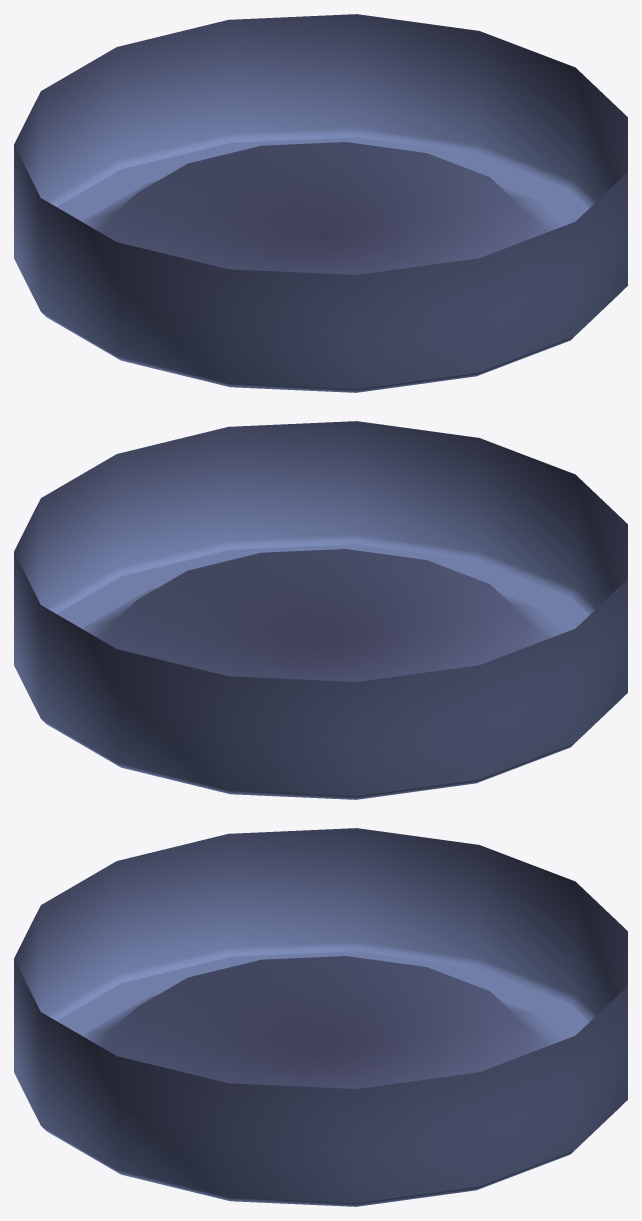
File: anchorpoint.fbx
3 renders of one model, top to bottom at view 1: azimuth 30°, elevation 25°; view 2: azimuth 150°, elevation 25°; view 3: azimuth 270°, elevation 25°, orthographic.
Parts seen in each view (by area): view 1: plug hole; view 2: plug hole; view 3: plug hole.
Boxes of the visible parts, left/top/right/bottom form: plug hole: left=14, top=14, right=627, bottom=392; plug hole: left=14, top=421, right=627, bottom=799; plug hole: left=14, top=828, right=627, bottom=1206.
Bounding box in the file's own units: 121 × 26.14 × 121.
